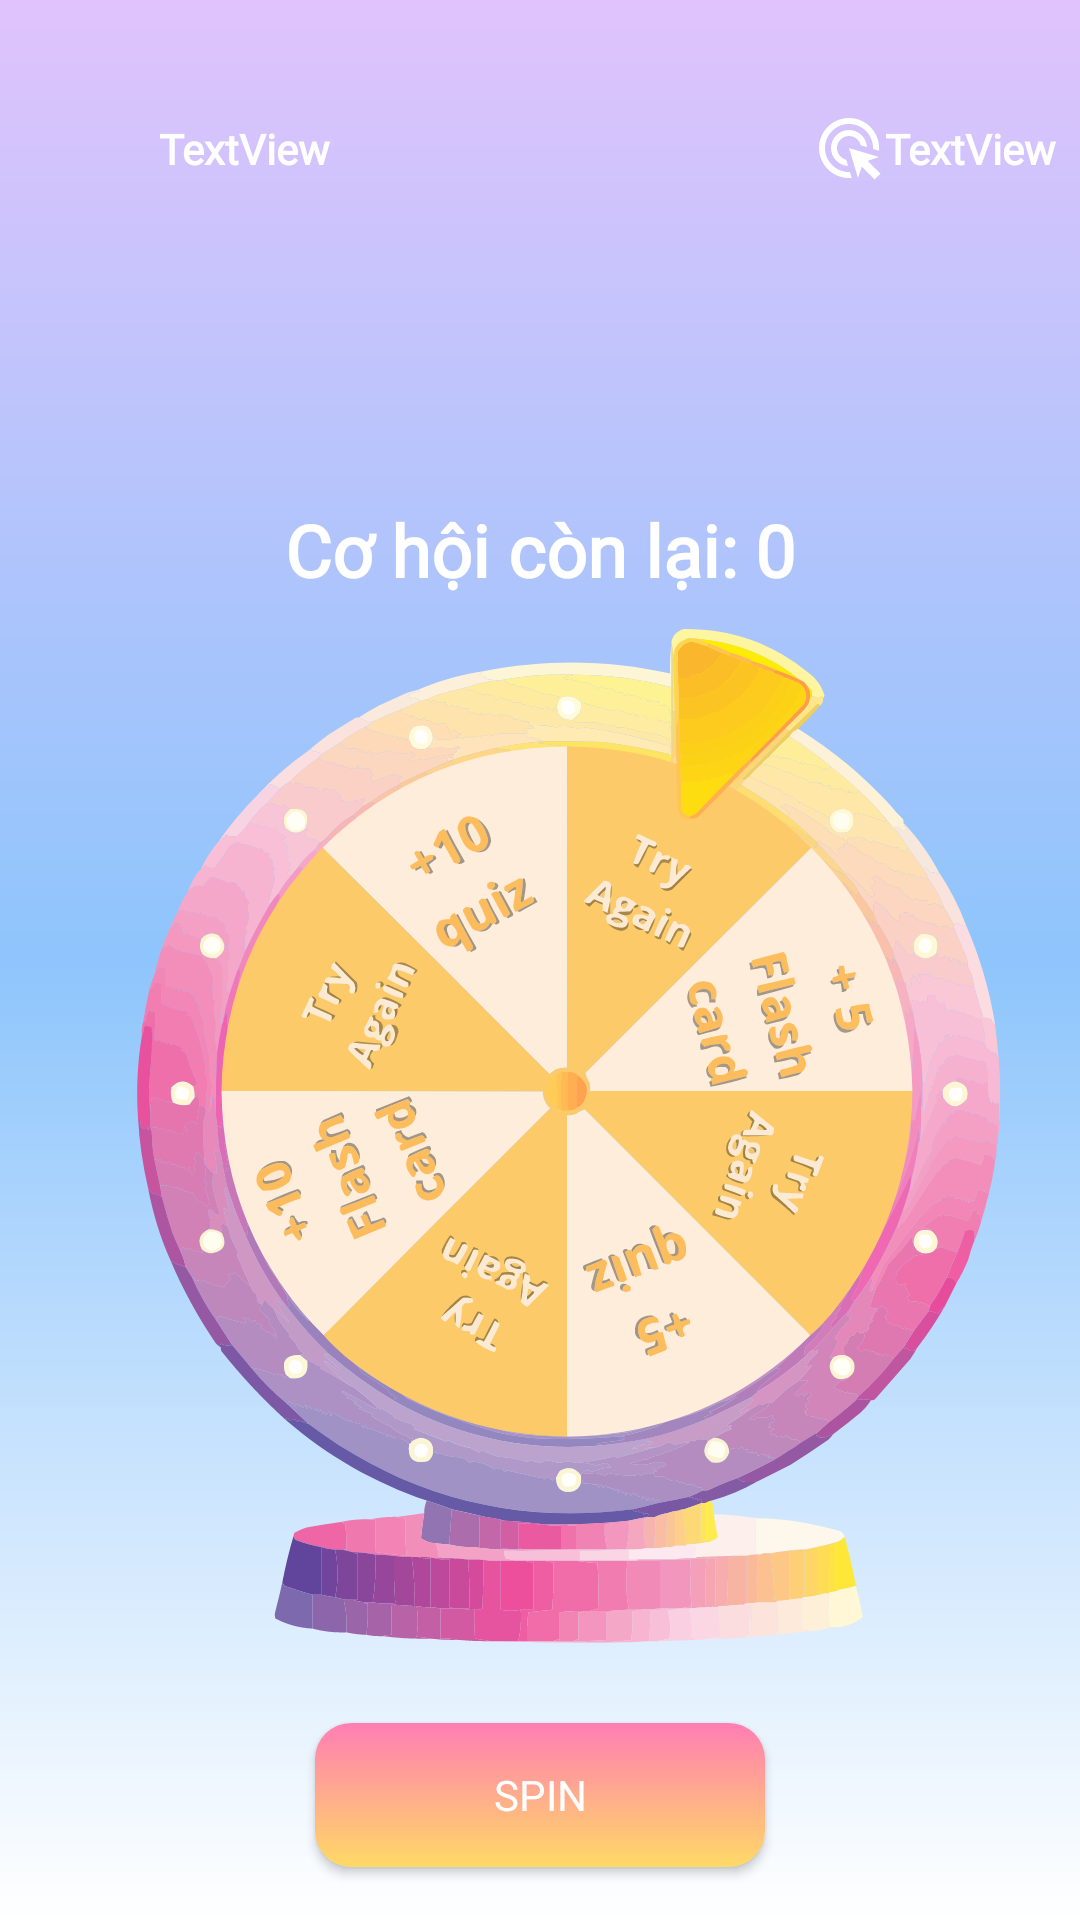

Icon click points for this 1080x1920 phone screenshot, format point (x, y):
spin click: point (849, 148)
